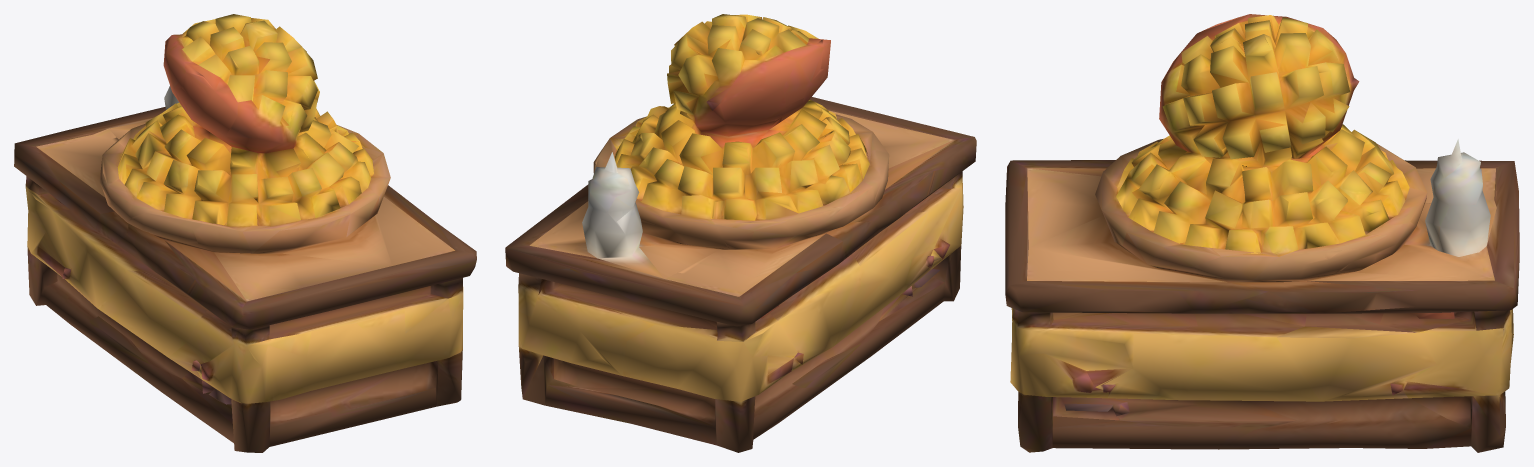
The model's file is TW_사물_s3_topping_mango.glb.
3 views of the same model, side by side, from view 1: azimuth 30°, elevation 25°; view 2: azimuth 150°, elevation 25°; view 3: azimuth 270°, elevation 25° (orthographic). The views are drawn at different scales.
Parts seen in each view (by area): view 1: tripo_node_27a6989d-e002-4895-8b0a-751d04b1cd5b; view 2: tripo_node_27a6989d-e002-4895-8b0a-751d04b1cd5b; view 3: tripo_node_27a6989d-e002-4895-8b0a-751d04b1cd5b.
Part boxes in pixels (x1,y1,x2,y2): tripo_node_27a6989d-e002-4895-8b0a-751d04b1cd5b: (14, 14, 476, 452); tripo_node_27a6989d-e002-4895-8b0a-751d04b1cd5b: (505, 14, 976, 452); tripo_node_27a6989d-e002-4895-8b0a-751d04b1cd5b: (1005, 14, 1519, 452).
Size of the model in its own units: 0.6173 by 0.7809 by 0.9983.
Materials: 1 (1 with a texture image).
